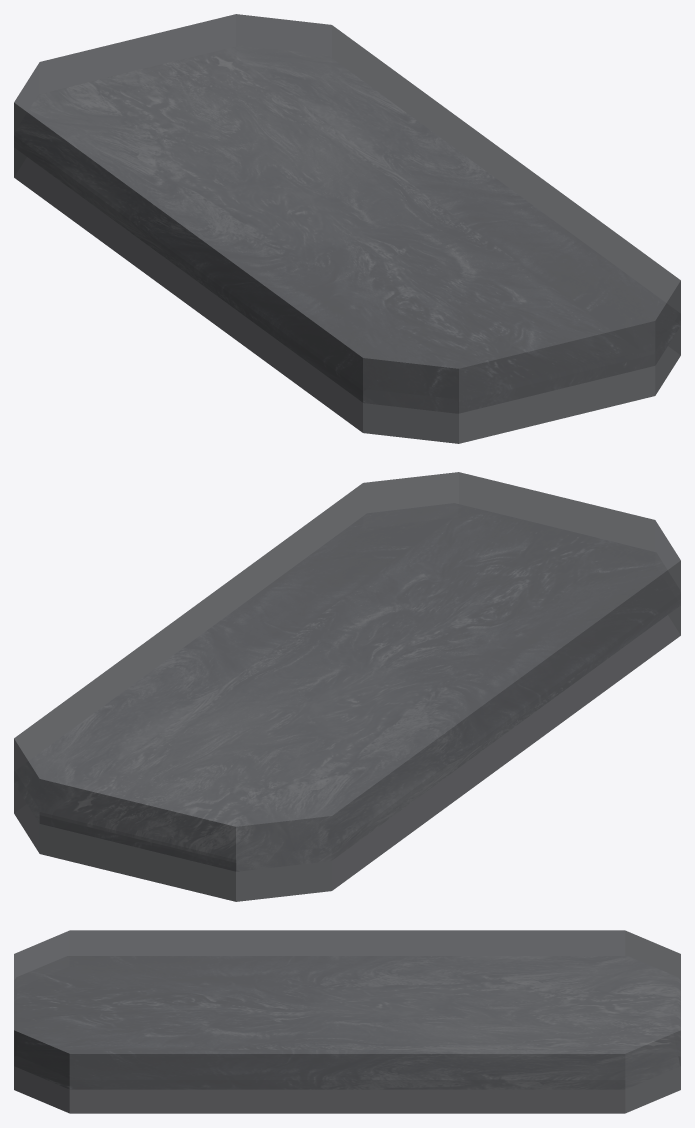
Rendered from tabletop-epoxy-angled-corners-chamfered-source.glb.
3 renders of one model, top to bottom at view 1: azimuth 30°, elevation 25°; view 2: azimuth 150°, elevation 25°; view 3: azimuth 270°, elevation 25°, orthographic. The views are drawn at different scales.
Visible parts, largest first — view 1: tabletop_epoxy_angled_corners_chamfered_source; view 2: tabletop_epoxy_angled_corners_chamfered_source; view 3: tabletop_epoxy_angled_corners_chamfered_source.
Boxes of the visible parts, x1=… form: tabletop_epoxy_angled_corners_chamfered_source: x1=14, y1=14, x2=680, y2=443; tabletop_epoxy_angled_corners_chamfered_source: x1=14, y1=472, x2=680, y2=901; tabletop_epoxy_angled_corners_chamfered_source: x1=14, y1=930, x2=680, y2=1113.
Size of the model in its own units: 1.07 by 0.2413 by 2.44.
1 material, 1 textured.
